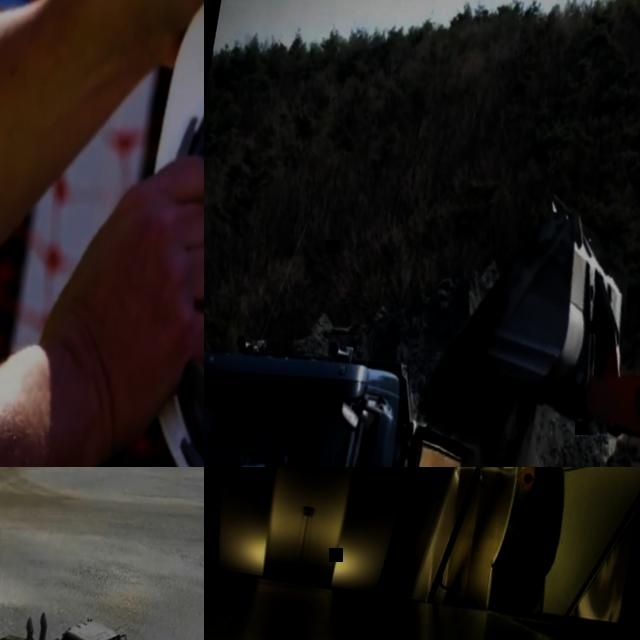Hardhat: (100, 0, 204, 467)
NO-Hardhat: (225, 408, 244, 427)
Person: (0, 0, 204, 467), (219, 407, 251, 455)
machinery: (430, 182, 640, 467), (204, 305, 538, 467), (0, 594, 204, 640)
